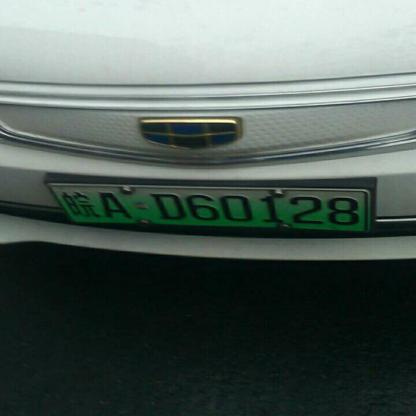lp: (48, 184, 74, 231)
